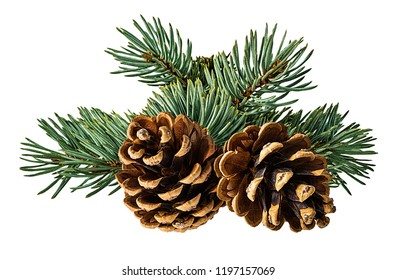Pc: (219, 122, 338, 232), (118, 113, 227, 231)
